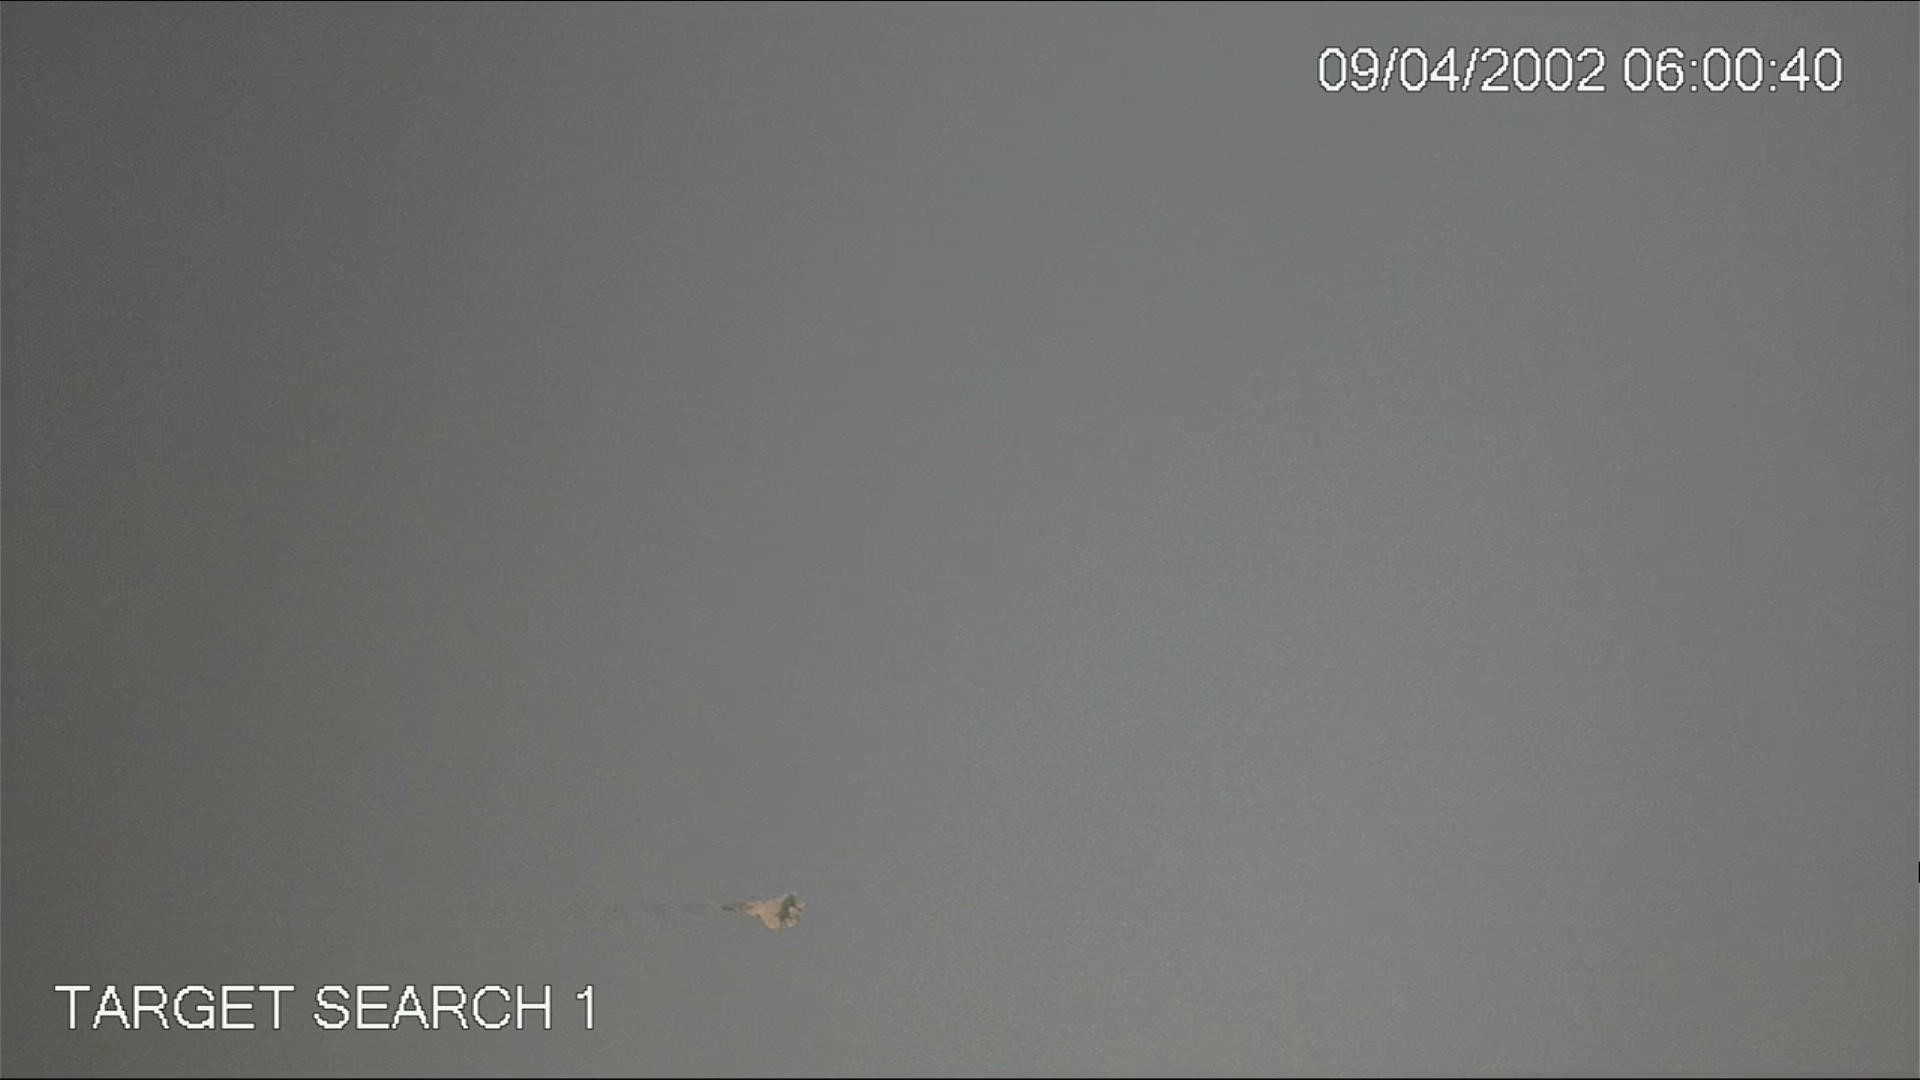SU_30: (721, 889, 806, 936)
